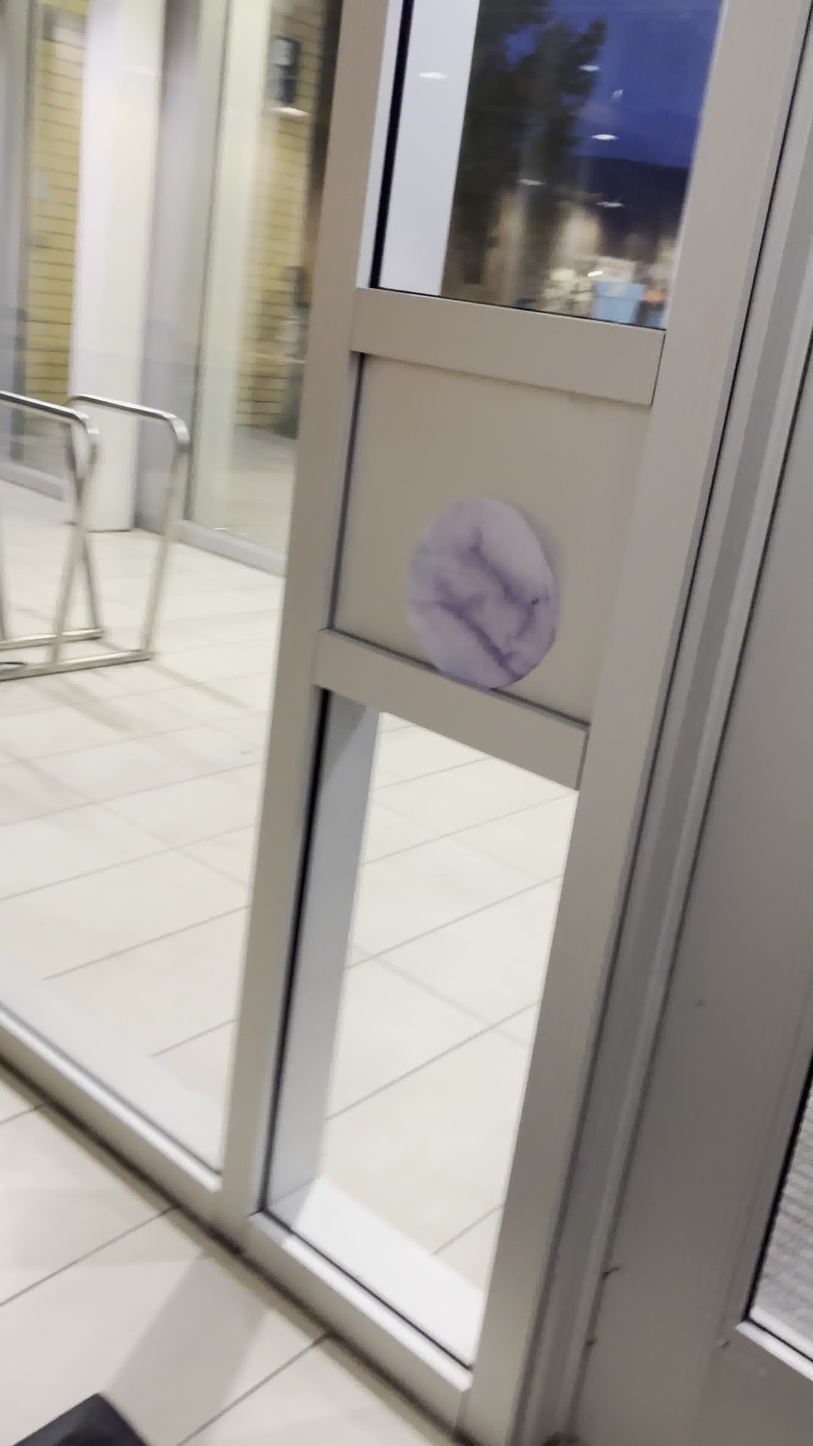Target: (403, 494, 563, 695)
